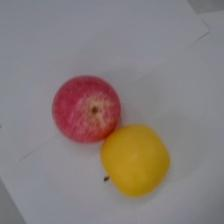red: (51, 74, 122, 144)
yellow: (100, 123, 172, 198)
